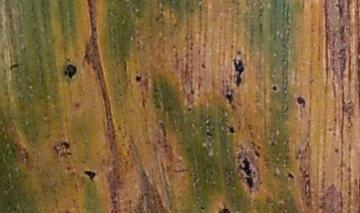tarspot: (232, 59, 245, 88), (239, 157, 253, 176), (63, 64, 77, 80), (84, 169, 97, 180), (296, 96, 307, 109), (225, 92, 233, 106), (246, 178, 255, 189), (60, 141, 71, 149), (217, 208, 233, 213), (199, 61, 207, 70), (228, 125, 235, 135), (10, 63, 18, 71), (134, 74, 142, 82), (270, 84, 278, 92), (189, 86, 196, 95), (287, 172, 295, 179), (333, 147, 340, 154), (254, 150, 260, 158), (206, 131, 214, 137), (23, 153, 29, 161), (236, 49, 242, 56), (187, 107, 193, 113), (270, 142, 277, 146), (201, 206, 206, 211)
